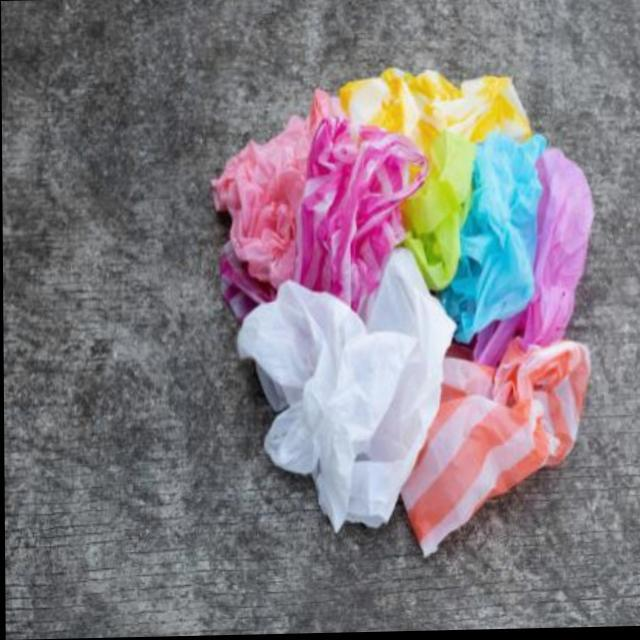Single-layer Plastic: (238, 249, 455, 531), (339, 69, 531, 289), (401, 340, 590, 554), (474, 149, 594, 364), (294, 116, 426, 310), (439, 134, 546, 342), (211, 116, 310, 287)
